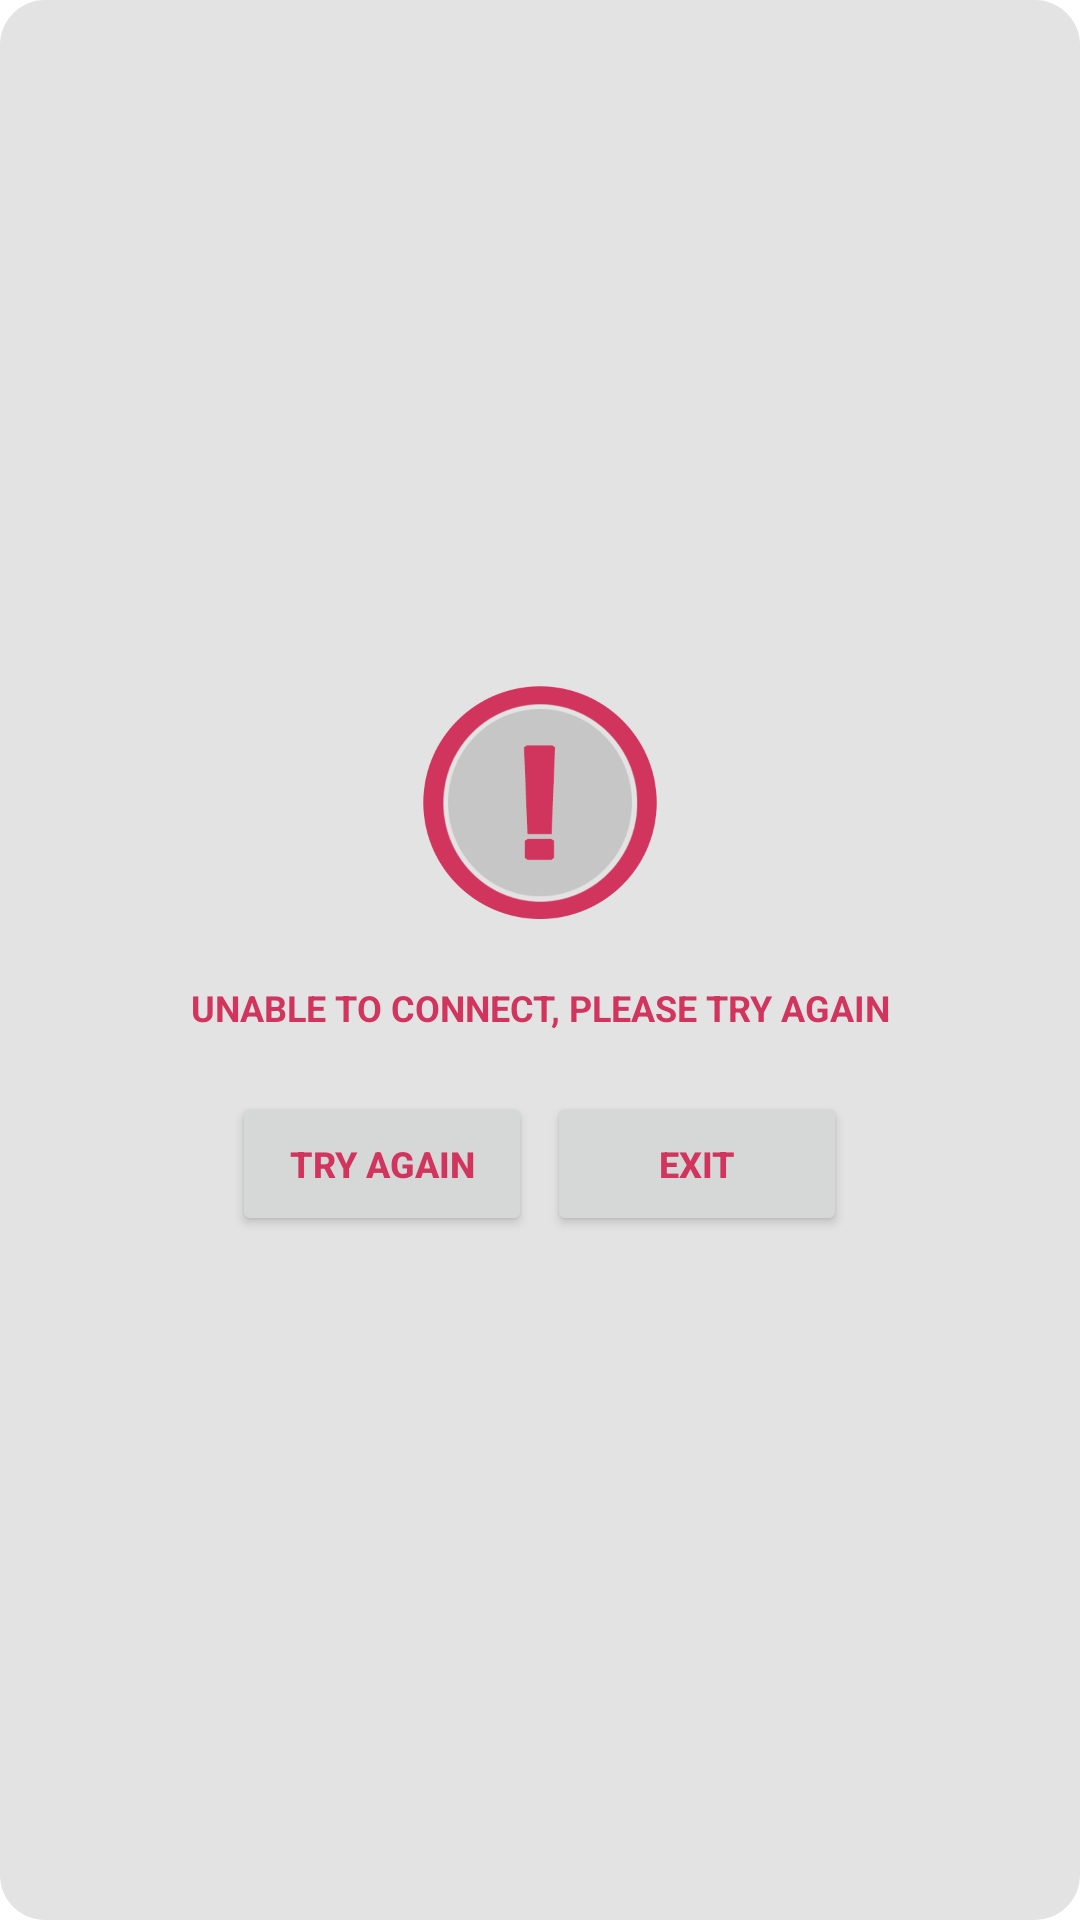

Point at icon controls on the screen. Image size 1080 × 1920, points as (x=x, y=y).
error: (x=540, y=802)
